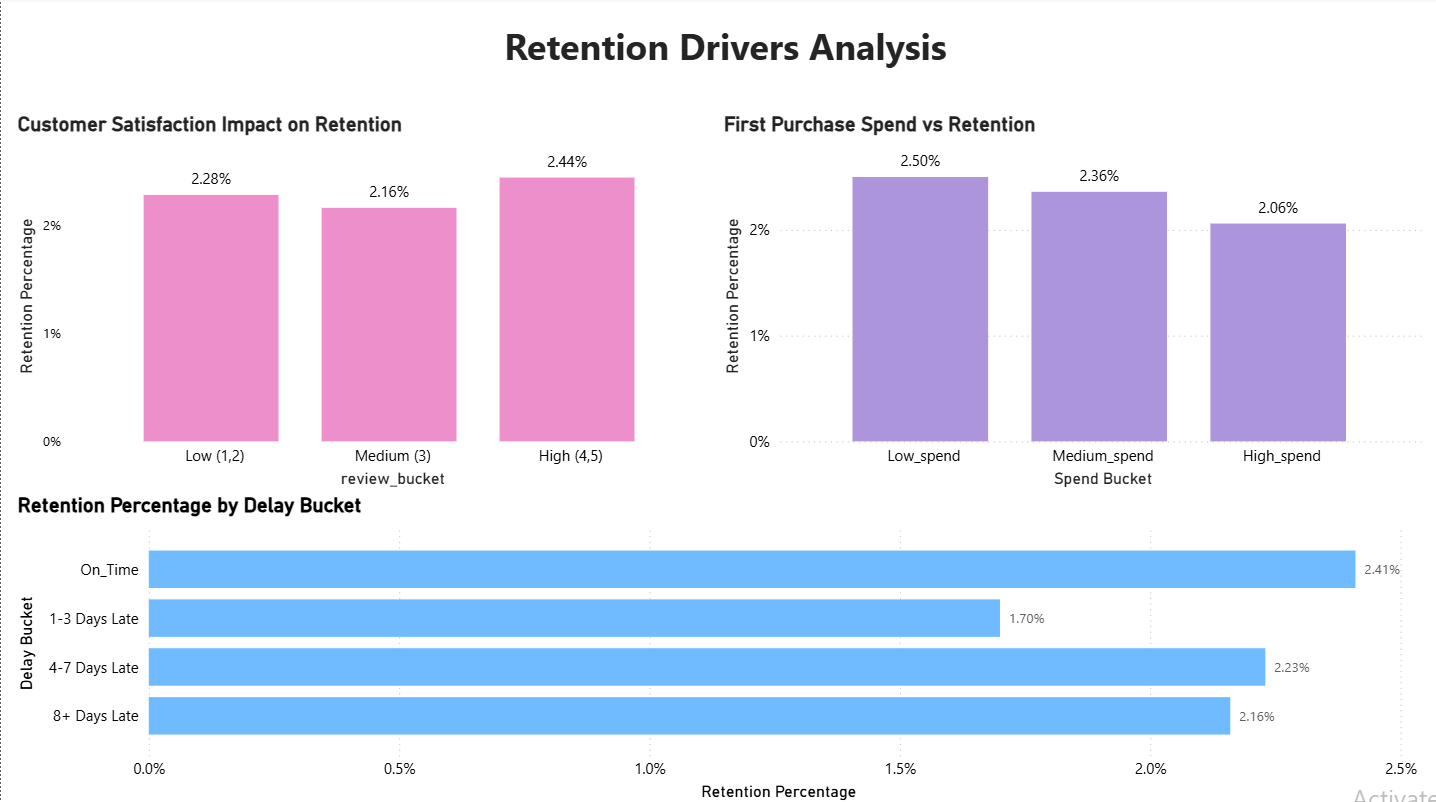

The dashboard page shown, as its layout file describes it:
{"tool":"powerbi","page":{"name":"Page 2","canvas":[1280,720],"ordinal":1},"visuals":[{"type":"textbox","box":[10.1,16.4,1270.2,70.6],"z":0},{"type":"clusteredColumnChart","title":"Customer Satisfaction Impact on Retention","fields":{"Y":["Sum(Review Retention.retention_pct)"],"Category":["Bucket Order.review_bucket"]},"box":[10.1,102.2,629.4,339.3],"z":1000},{"type":"clusteredColumnChart","title":"First Purchase Spend vs Retention","fields":{"Category":["Spend Retention.spend_bucket"],"Y":["Sum(Spend Retention.retention_pct)"]},"box":[639.5,102.2,634.5,339.3],"z":2000},{"type":"barChart","fields":{"Y":["Sum(Delay Severity.retention_pct)"],"Category":["Delay Order.delay_bucket"]},"box":[10.1,441.5,1263.9,278.8],"z":3000}]}

Visuals, with their boxes in screenshot pixels (x1, y1, x2, y2), scaled from the page's 1280x720 canvas onto the 1436x802 screenshot:
textbox: [x1=11, y1=18, x2=1435, y2=97]
"Customer Satisfaction Impact on Retention" clusteredColumnChart: [x1=11, y1=114, x2=717, y2=492]
"First Purchase Spend vs Retention" clusteredColumnChart: [x1=717, y1=114, x2=1429, y2=492]
barChart - Sum(Delay Severity.retention_pct) x Delay Order.delay_bucket: [x1=11, y1=492, x2=1429, y2=801]
